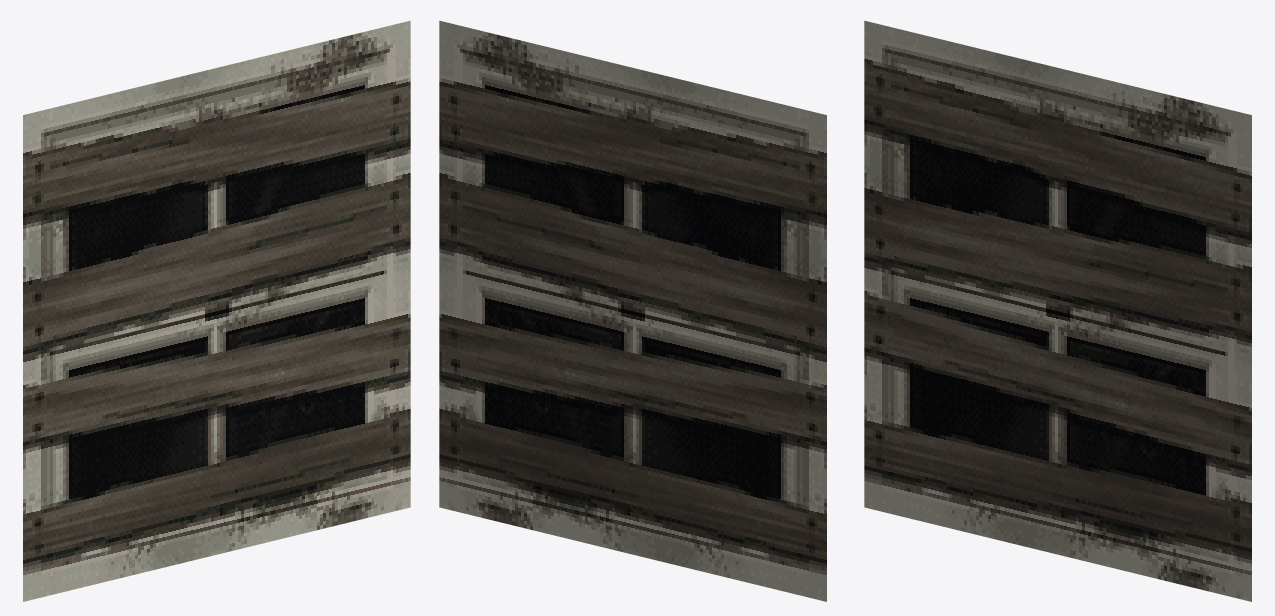
Rendered from house_window_boarded.glb.
3 views of the same model, side by side, from view 1: azimuth 30°, elevation 25°; view 2: azimuth 150°, elevation 25°; view 3: azimuth 330°, elevation 25° (orthographic).
Visible parts, largest first — view 1: house_window_boarded; view 2: house_window_boarded; view 3: house_window_boarded.
Boxes of the visible parts, <box> form: house_window_boarded: <box>23,20,410,601</box>; house_window_boarded: <box>439,20,826,601</box>; house_window_boarded: <box>864,20,1251,601</box>.
Bounding box in the file's own units: 1 × 1.2 × 0.04.
Materials: 1 (1 with a texture image).
